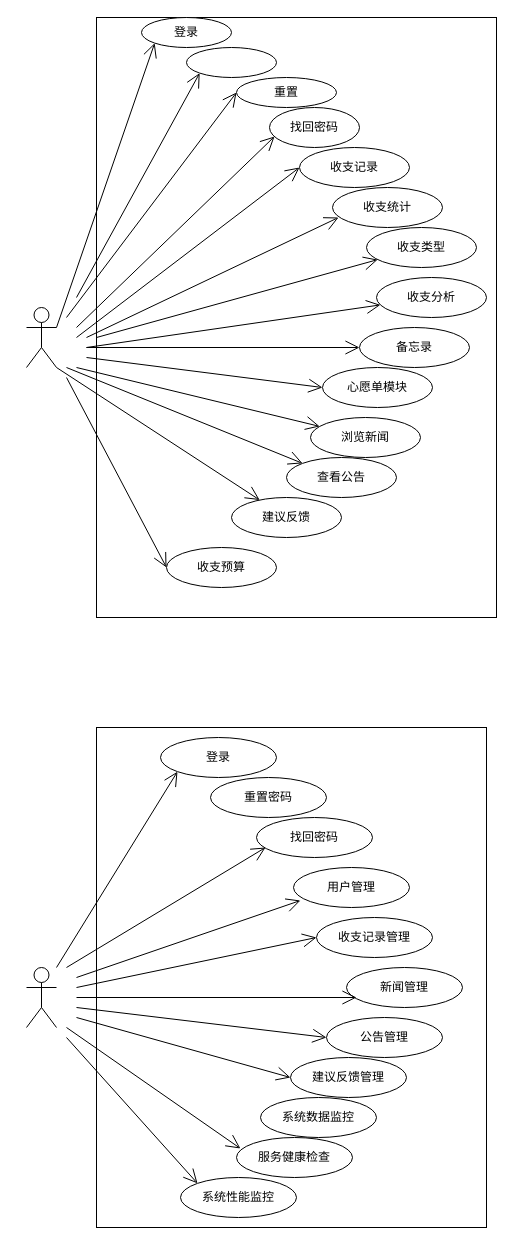
The diagram is 514 pixels wide and 1245 high, and some of its shapes have lost their labels. Here are the shapes that lost their labels. From the top down, the centre of each, then its label:
point (231, 62): 注册
point (41, 337): 普通用户
point (41, 997): 管理员
